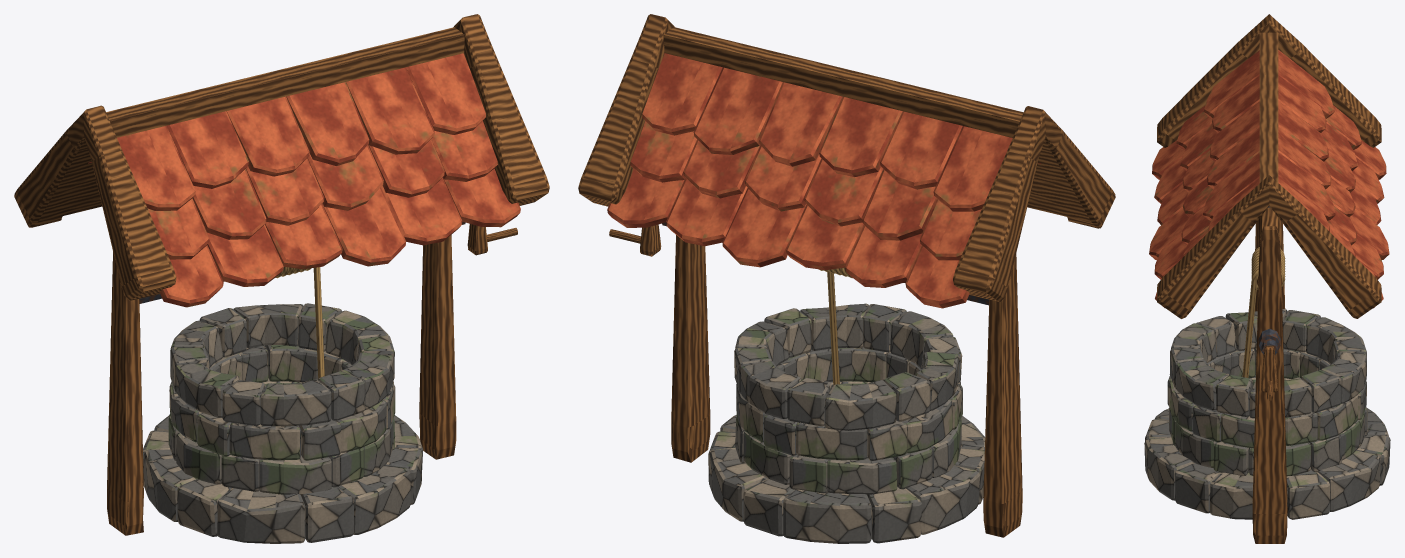
Rendered from SM_Well.glb.
3 renders of one model, left to right at view 1: azimuth 30°, elevation 25°; view 2: azimuth 150°, elevation 25°; view 3: azimuth 270°, elevation 25°, orthographic. The views are drawn at different scales.
Parts seen in each view (by area): view 1: Cube.008, Cube.004, Cube.005, Cube, Cube.002, Cube.001, Circle; view 2: Cube.008, Cube.004, Cube.005, Cube, Cube.002, Cube.001, Circle; view 3: Cube.004, Cube.008, Cube.005, Cube.001, Cube, Circle, Cube.003, Cylinder, Cube.002.
Boxes of the visible parts, bbox=[...] form: Cube.008: bbox=[88, 53, 520, 307]; Cube.004: bbox=[143, 303, 423, 543]; Cube.005: bbox=[14, 14, 549, 300]; Cube: bbox=[106, 27, 464, 137]; Cube.002: bbox=[107, 252, 143, 535]; Cube.001: bbox=[419, 235, 456, 459]; Circle: bbox=[275, 267, 324, 379]; Cube.008: bbox=[607, 53, 1041, 308]; Cube.004: bbox=[708, 303, 985, 543]; Cube.005: bbox=[578, 14, 1115, 301]; Cube: bbox=[663, 27, 1023, 137]; Cube.002: bbox=[983, 254, 1022, 537]; Cube.001: bbox=[671, 235, 710, 462]; Circle: bbox=[819, 267, 852, 385]; Cube.004: bbox=[1144, 309, 1390, 519]; Cube.008: bbox=[1149, 50, 1389, 308]; Cube.005: bbox=[1157, 14, 1381, 318]; Cube.001: bbox=[1252, 226, 1287, 543]; Cube: bbox=[1259, 32, 1278, 206]; Circle: bbox=[1242, 247, 1285, 377]; Cube.003: bbox=[1261, 345, 1277, 392]; Cylinder: bbox=[1258, 207, 1280, 247]; Cube.002: bbox=[1254, 220, 1285, 311].
Size of the model in its own units: 28.37 by 26.37 by 15.62.
Materials: 5 (5 with a texture image).
